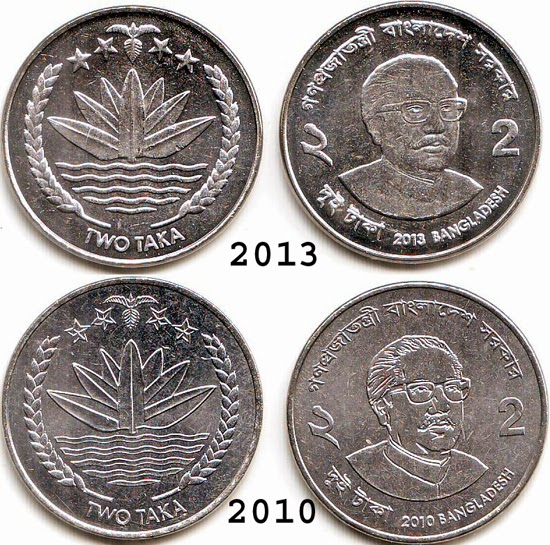5 taka coin: (2, 276, 266, 541), (285, 280, 550, 543), (280, 1, 541, 266), (2, 4, 263, 268)
